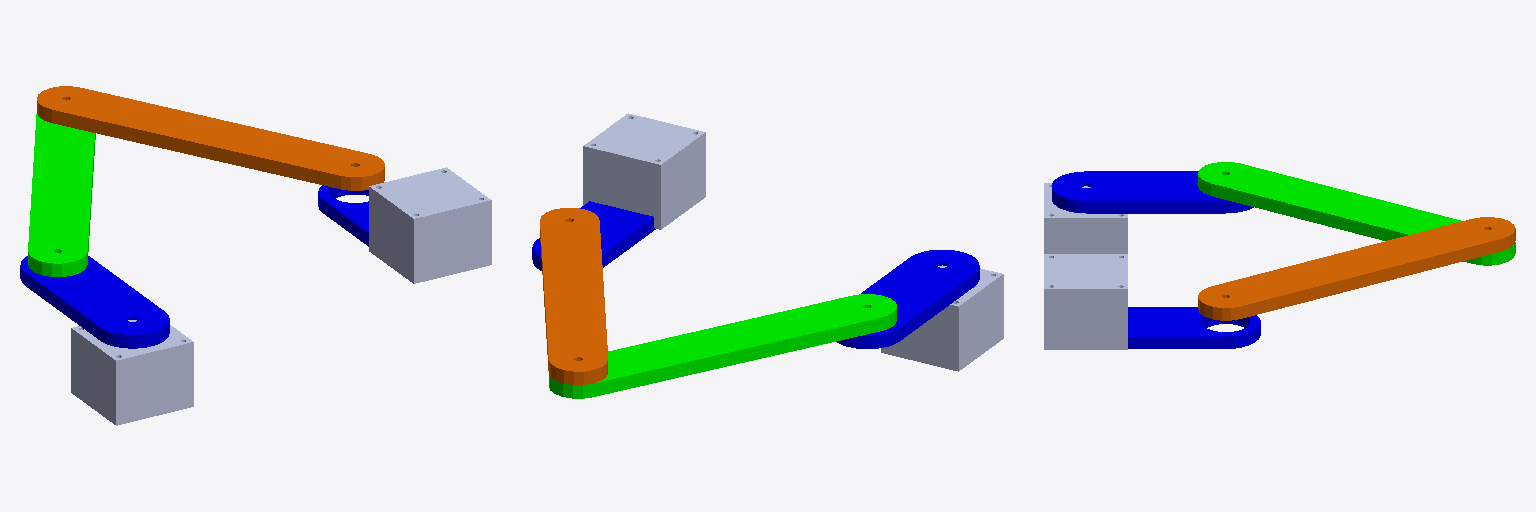
The robot description file, URDF, robot "Final Assembly.SLDASM":
<?xml version="1.0" encoding="utf-8"?>
<!-- This URDF was automatically created by SolidWorks to URDF Exporter! Originally created by [author] ([email redacted]) 
     Commit Version: 1.6.0-1-g15f4949  Build Version: 1.6.7594.29634
     For more information, please see http://wiki.ros.org/sw_urdf_exporter -->
<robot
  name="Final Assembly.SLDASM">
  <link
    name="base_link 1">
    <inertial>
      <origin
        xyz="-0.115 -3.52879023274712E-19 0.0242881406542842"
        rpy="0 0 0" />
      <mass
        value="0.172316194731347" />
      <inertia
        ixx="8.44425982163662E-05"
        ixy="1.72663475249352E-20"
        ixz="-4.97266246191173E-22"
        iyy="8.44425982163662E-05"
        iyz="2.11418158652756E-21"
        izz="0.000100909806429918" />
    </inertial>
    <visual>
      <origin
        xyz="0 0 0"
        rpy="0 0 0" />
      <geometry>
        <mesh
          filename="package://Final Assembly.SLDASM/meshes/base_link 1.STL" />
      </geometry>
      <material
        name="">
        <color
          rgba="0.792156862745098 0.819607843137255 0.933333333333333 1" />
      </material>
    </visual>
    <collision>
      <origin
        xyz="0 0 0"
        rpy="0 0 0" />
      <geometry>
        <mesh
          filename="package://Final Assembly.SLDASM/meshes/base_link 1.STL" />
      </geometry>
    </collision>
  </link>
  <link
    name="Link Al">
    <inertial>
      <origin
        xyz="0.0423388563797648 0.005 0"
        rpy="0 0 0" />
      <mass
        value="0.0595111717587432" />
      <inertia
        ixx="1.32419264801198E-05"
        ixy="3.9586770844394E-23"
        ixz="1.50872630436891E-20"
        iyy="9.78603663889838E-05"
        iyz="-1.05879118406932E-22"
        izz="8.56102927715097E-05" />
    </inertial>
    <visual>
      <origin
        xyz="0 0 0"
        rpy="0 0 0" />
      <geometry>
        <mesh
          filename="package://Final Assembly.SLDASM/meshes/Link Al.STL" />
      </geometry>
      <material
        name="">
        <color
          rgba="0 0 1 1" />
      </material>
    </visual>
    <collision>
      <origin
        xyz="0 0 0"
        rpy="0 0 0" />
      <geometry>
        <mesh
          filename="package://Final Assembly.SLDASM/meshes/Link Al.STL" />
      </geometry>
    </collision>
  </link>
  <joint
    name="Joint 1"
    type="revolute">
    <origin
      xyz="-0.115 0 0.0495"
      rpy="1.5708 0 1.5708" />
    <parent
      link="base_link 1" />
    <child
      link="Link Al" />
    <axis
      xyz="0 1 0" />
    <limit
      lower="0"
      upper="0"
      effort="0"
      velocity="0" />
  </joint>
  <link
    name="Link Bl">
    <inertial>
      <origin
        xyz="-0.104178213482525 0.005 -5.55111512312578E-17"
        rpy="0 0 0" />
      <mass
        value="0.0949743356909694" />
      <inertia
        ixx="1.35564694502337E-05"
        ixy="2.73173410201715E-22"
        ixz="-2.16416918023474E-19"
        iyy="0.000473367177844298"
        iyz="-6.51092222976114E-22"
        izz="0.000461393613988914" />
    </inertial>
    <visual>
      <origin
        xyz="0 0 0"
        rpy="0 0 0" />
      <geometry>
        <mesh
          filename="package://Final Assembly.SLDASM/meshes/Link Bl.STL" />
      </geometry>
      <material
        name="">
        <color
          rgba="0 1 0 1" />
      </material>
    </visual>
    <collision>
      <origin
        xyz="0 0 0"
        rpy="0 0 0" />
      <geometry>
        <mesh
          filename="package://Final Assembly.SLDASM/meshes/Link Bl.STL" />
      </geometry>
    </collision>
  </link>
  <joint
    name="Joint 2"
    type="revolute">
    <origin
      xyz="0.1 0.01 0"
      rpy="3.1416 0.55005 3.1416" />
    <parent
      link="Link Al" />
    <child
      link="Link Bl" />
    <axis
      xyz="0 1 0" />
    <limit
      lower="0"
      upper="0"
      effort="0"
      velocity="0" />
  </joint>
  <link
    name="Link Br">
    <inertial>
      <origin
        xyz="0.11 0.005 -1.38777878078145E-16"
        rpy="0 0 0" />
      <mass
        value="0.100000883936713" />
      <inertia
        ixx="1.38220387492172E-05"
        ixy="-1.72264981218173E-21"
        ixz="9.18183714823662E-19"
        iyy="0.000537854758400384"
        iyz="-3.86937439172699E-22"
        izz="0.000525699401050112" />
    </inertial>
    <visual>
      <origin
        xyz="0 0 0"
        rpy="0 0 0" />
      <geometry>
        <mesh
          filename="package://Final Assembly.SLDASM/meshes/Link Br.STL" />
      </geometry>
      <material
        name="">
        <color
          rgba="0.909803921568627 0.443137254901961 0.0313725490196078 1" />
      </material>
    </visual>
    <collision>
      <origin
        xyz="0 0 0"
        rpy="0 0 0" />
      <geometry>
        <mesh
          filename="package://Final Assembly.SLDASM/meshes/Link Br.STL" />
      </geometry>
    </collision>
  </link>
  <joint
    name="Joint P"
    type="revolute">
    <origin
      xyz="-0.22 0.01 0"
      rpy="0 1.1001 0" />
    <parent
      link="Link Bl" />
    <child
      link="Link Br" />
    <axis
      xyz="0 1 0" />
    <limit
      lower="0"
      upper="0"
      effort="0"
      velocity="0" />
  </joint>
  <link
    name="Link Ar">
    <inertial>
      <origin
        xyz="0.0423388563797647 0.005 1.38777878078145E-17"
        rpy="0 0 0" />
      <mass
        value="0.0595111717587431" />
      <inertia
        ixx="1.32419264801198E-05"
        ixy="-2.69757191222742E-22"
        ixz="7.05119349514684E-21"
        iyy="9.78603663889837E-05"
        iyz="-2.82344315751323E-22"
        izz="8.56102927715096E-05" />
    </inertial>
    <visual>
      <origin
        xyz="0 0 0"
        rpy="0 0 0" />
      <geometry>
        <mesh
          filename="package://Final Assembly.SLDASM/meshes/Link Ar.STL" />
      </geometry>
      <material
        name="">
        <color
          rgba="0 0 1 1" />
      </material>
    </visual>
    <collision>
      <origin
        xyz="0 0 0"
        rpy="0 0 0" />
      <geometry>
        <mesh
          filename="package://Final Assembly.SLDASM/meshes/Link Ar.STL" />
      </geometry>
    </collision>
  </link>
  <joint
    name="Joint 3"
    type="revolute">
    <origin
      xyz="0.30525 -0.02 0.052273"
      rpy="3.1416 0.55005 3.1416" />
    <parent
      link="Link Br" />
    <child
      link="Link Ar" />
    <axis
      xyz="0 1 0" />
    <limit
      lower="0"
      upper="0"
      effort="0"
      velocity="0" />
  </joint>
  <link
    name="base_link 2">
    <inertial>
      <origin
        xyz="2.77555756156289E-17 -0.0252118593457158 4.5123430041622E-19"
        rpy="0 0 0" />
      <mass
        value="0.172316194731347" />
      <inertia
        ixx="8.44425982163661E-05"
        ixy="6.01518753217997E-22"
        ixz="-5.22968398674401E-21"
        iyy="0.000100909806429918"
        iyz="-5.31306866520123E-22"
        izz="8.44425982163662E-05" />
    </inertial>
    <visual>
      <origin
        xyz="0 0 0"
        rpy="0 0 0" />
      <geometry>
        <mesh
          filename="package://Final Assembly.SLDASM/meshes/base_link 2.STL" />
      </geometry>
      <material
        name="">
        <color
          rgba="0.792156862745098 0.819607843137255 0.933333333333333 1" />
      </material>
    </visual>
    <collision>
      <origin
        xyz="0 0 0"
        rpy="0 0 0" />
      <geometry>
        <mesh
          filename="package://Final Assembly.SLDASM/meshes/base_link 2.STL" />
      </geometry>
    </collision>
  </link>
  <joint
    name="Joint 4"
    type="revolute">
    <origin
      xyz="0 0 0"
      rpy="3.1416 -1.5708 0" />
    <parent
      link="Link Ar" />
    <child
      link="base_link 2" />
    <axis
      xyz="0 1 0" />
    <limit
      lower="0"
      upper="0"
      effort="0"
      velocity="0" />
  </joint>
</robot>

--- What the picture shows (computed from the rendered views, not written in the file) ---
The picture shows the robot from 3 angles, left to right: view 1: azimuth 30°, elevation 25°; view 2: azimuth 150°, elevation 25°; view 3: azimuth 270°, elevation 25°; orthographic projection.
Model Final Assembly.SLDASM with 6 links and 5 joints (5 revolute), rooted at base_link 1, posed all joints at 0.
Links seen in each view (by area): view 1: Link Br, base_link 2, base_link 1, Link Bl, Link Al, Link Ar; view 2: Link Bl, base_link 2, Link Br, Link Al, base_link 1, Link Ar; view 3: Link Br, Link Bl, base_link 2, Link Al, Link Ar, base_link 1.
Boxes of the visible links, x1=… form: Link Br: x1=37, y1=86, x2=384, y2=190; base_link 2: x1=369, y1=167, x2=491, y2=283; base_link 1: x1=71, y1=320, x2=193, y2=425; Link Bl: x1=28, y1=114, x2=95, y2=276; Link Al: x1=20, y1=256, x2=169, y2=348; Link Ar: x1=318, y1=185, x2=368, y2=246; Link Bl: x1=549, y1=294, x2=896, y2=398; base_link 2: x1=583, y1=113, x2=705, y2=229; Link Br: x1=540, y1=208, x2=607, y2=384; Link Al: x1=836, y1=250, x2=979, y2=348; base_link 1: x1=881, y1=265, x2=1003, y2=371; Link Ar: x1=532, y1=201, x2=655, y2=270; Link Br: x1=1198, y1=217, x2=1515, y2=320; Link Bl: x1=1198, y1=162, x2=1515, y2=265; base_link 2: x1=1044, y1=254, x2=1127, y2=349; Link Al: x1=1052, y1=171, x2=1253, y2=213; Link Ar: x1=1128, y1=307, x2=1260, y2=348; base_link 1: x1=1044, y1=183, x2=1127, y2=253.
Bounding box of the posed robot: 0.29 × 0.3375 × 0.099 m (x, y, z).
6 mesh visuals loaded from 6 distinct referenced files (6 binary STL).